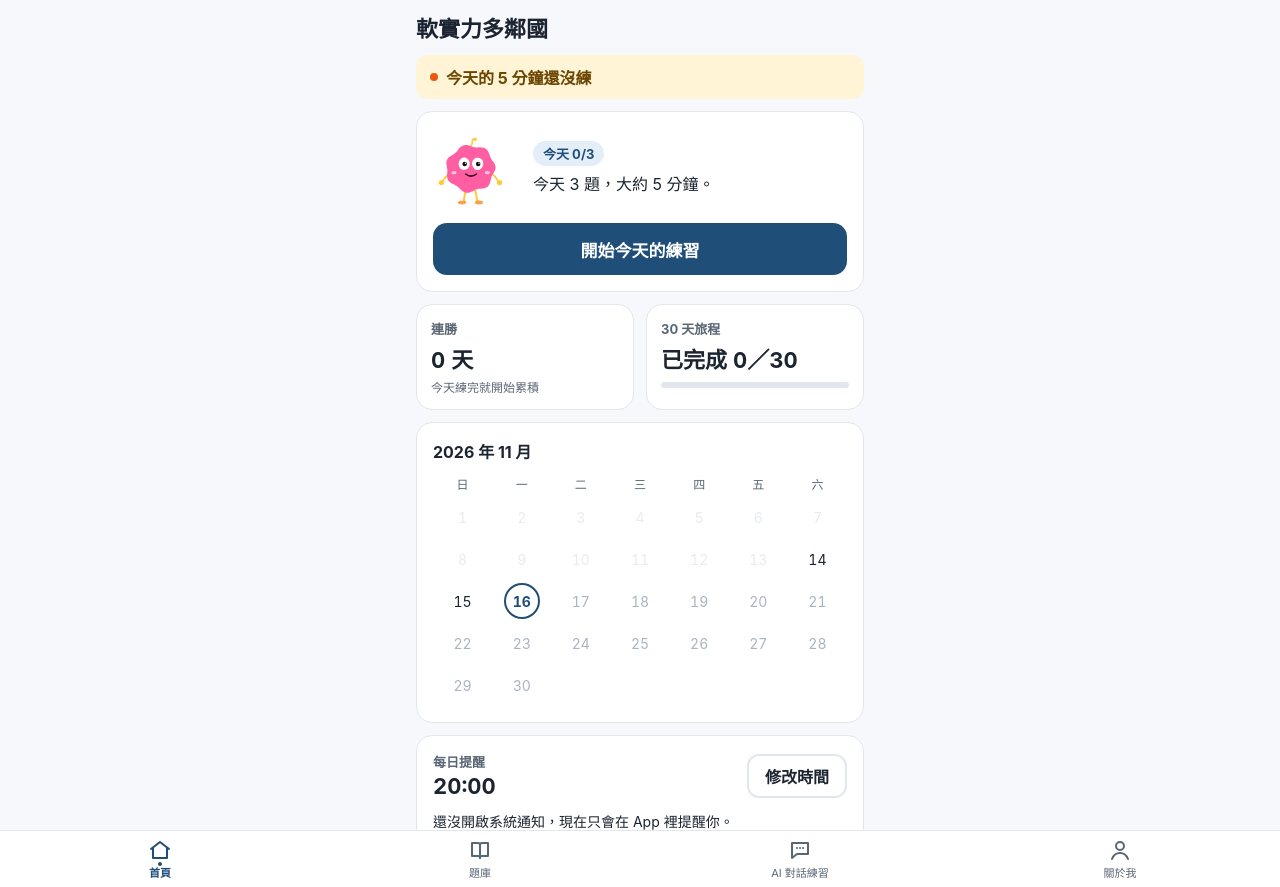
Test: 首頁畫面（假時間：台北 2026-11-16 21:00） › 修改提醒時間：可改、可取消，儲存後寫入 reminder_time
Expected: the text with test id "reminder-time" reads "20:00", top-left (433, 773), bottom-right (496, 799)
Click the button "修改時間".
click(797, 776)  # box top-left (747, 754), bottom-right (847, 798)
(page scrolled)
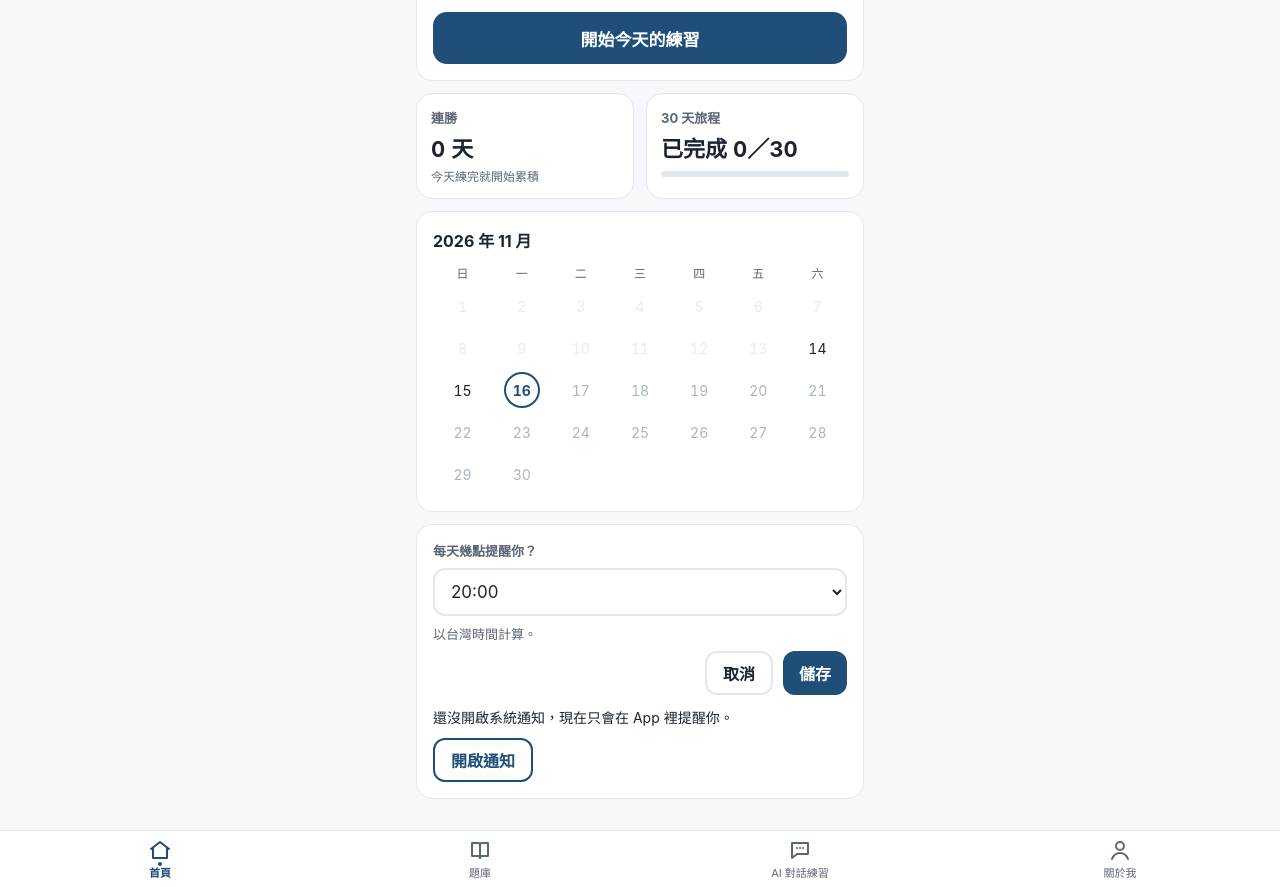
Select "08:15" in the dropdown labelled "每天幾點提醒你？" at [640, 592], box top-left (433, 568), bottom-right (847, 616)
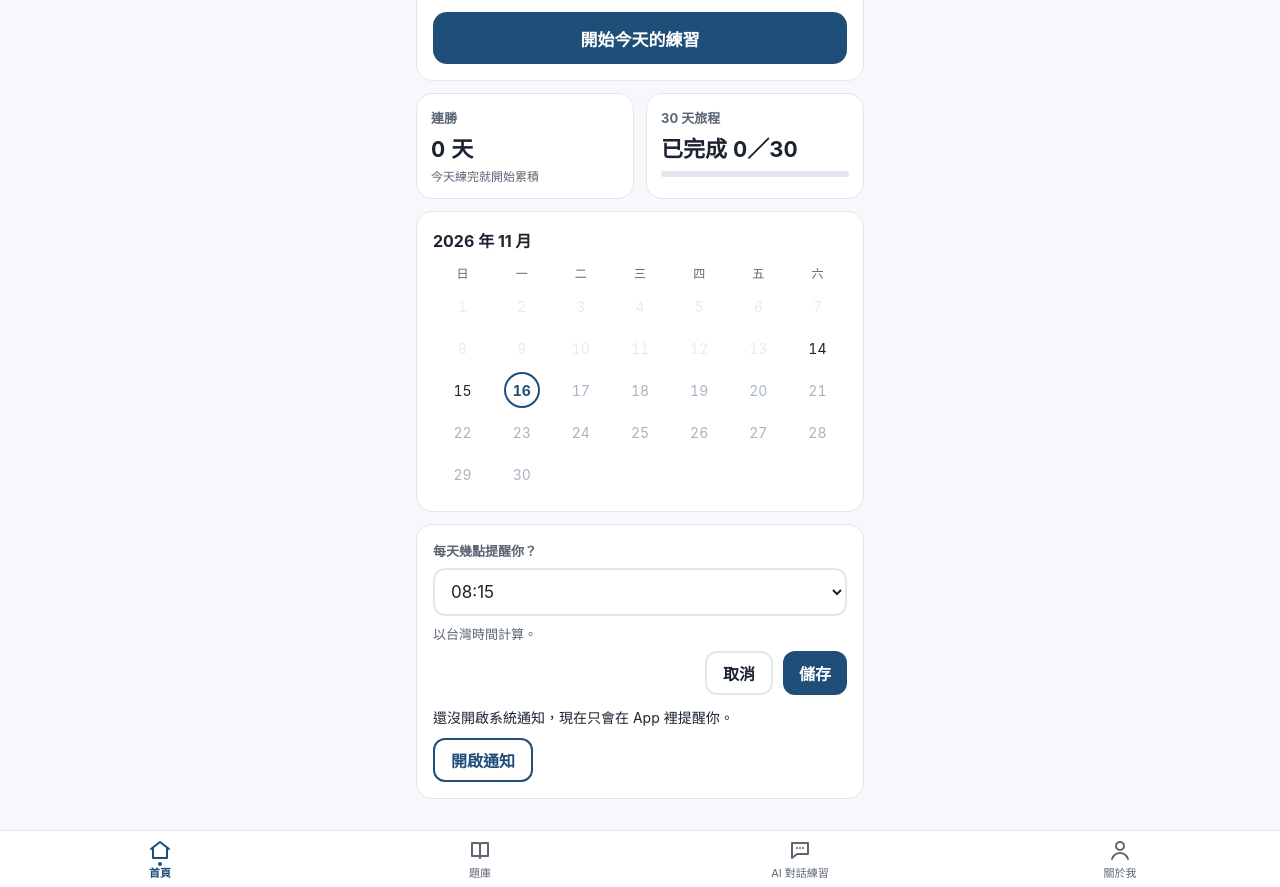
Click the button "取消".
click(739, 673)  # box top-left (705, 651), bottom-right (773, 695)
(page scrolled)
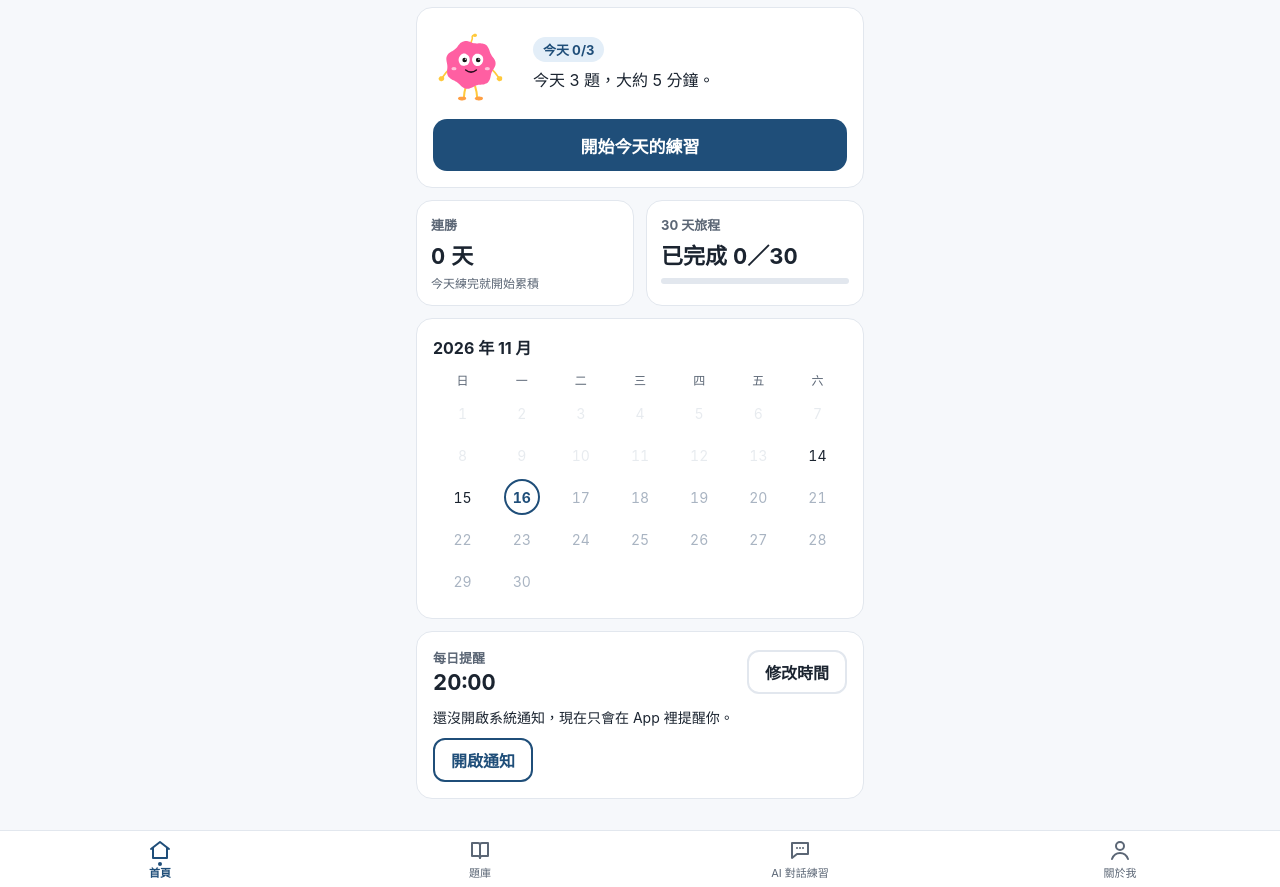
Expected: the text with test id "reminder-time" reads "20:00", top-left (433, 669), bottom-right (496, 695)
Click the button "修改時間".
click(797, 672)  # box top-left (747, 650), bottom-right (847, 694)
(page scrolled)
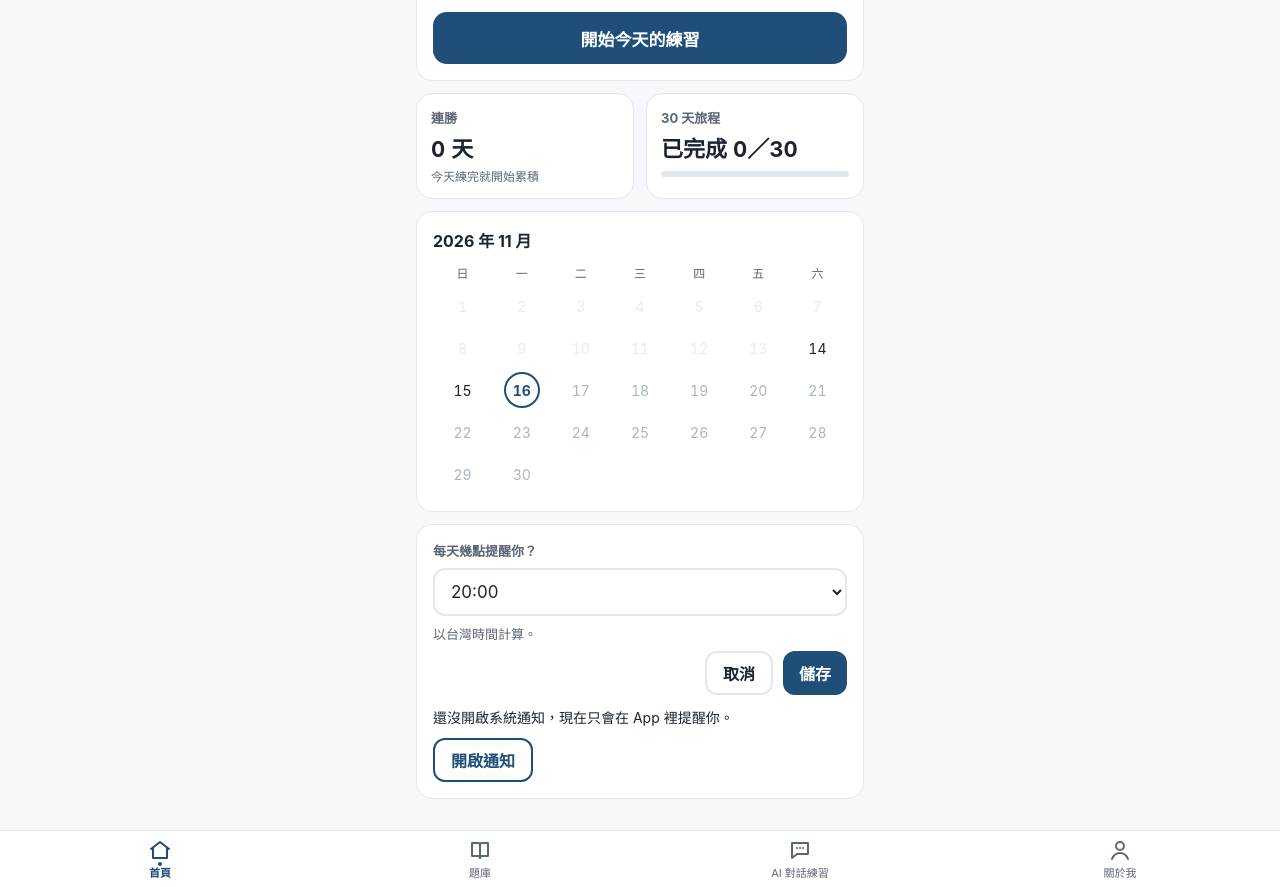
Select "08:15" in the dropdown labelled "每天幾點提醒你？" at [640, 592], box top-left (433, 568), bottom-right (847, 616)
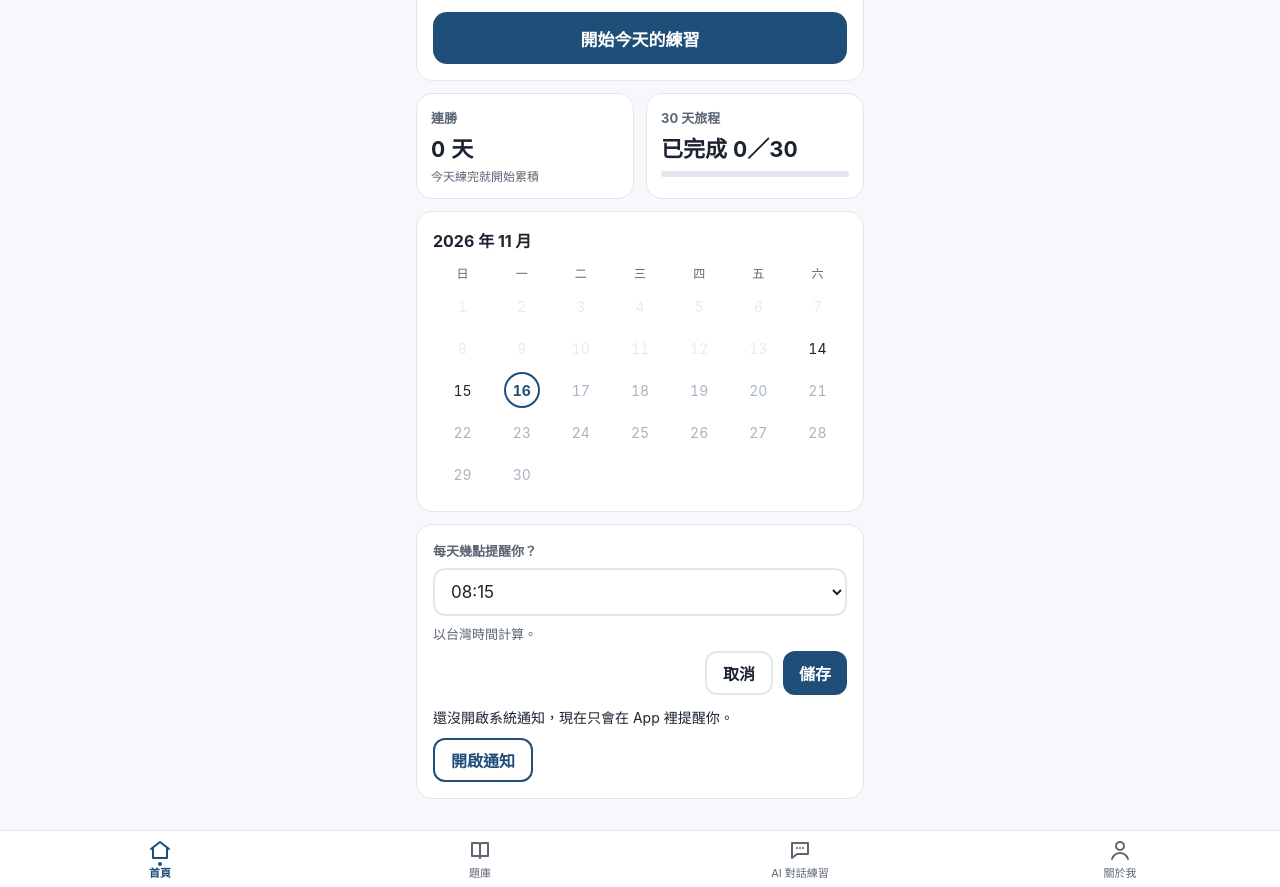
Click the button "儲存".
click(815, 673)  # box top-left (783, 651), bottom-right (847, 695)
(page scrolled)
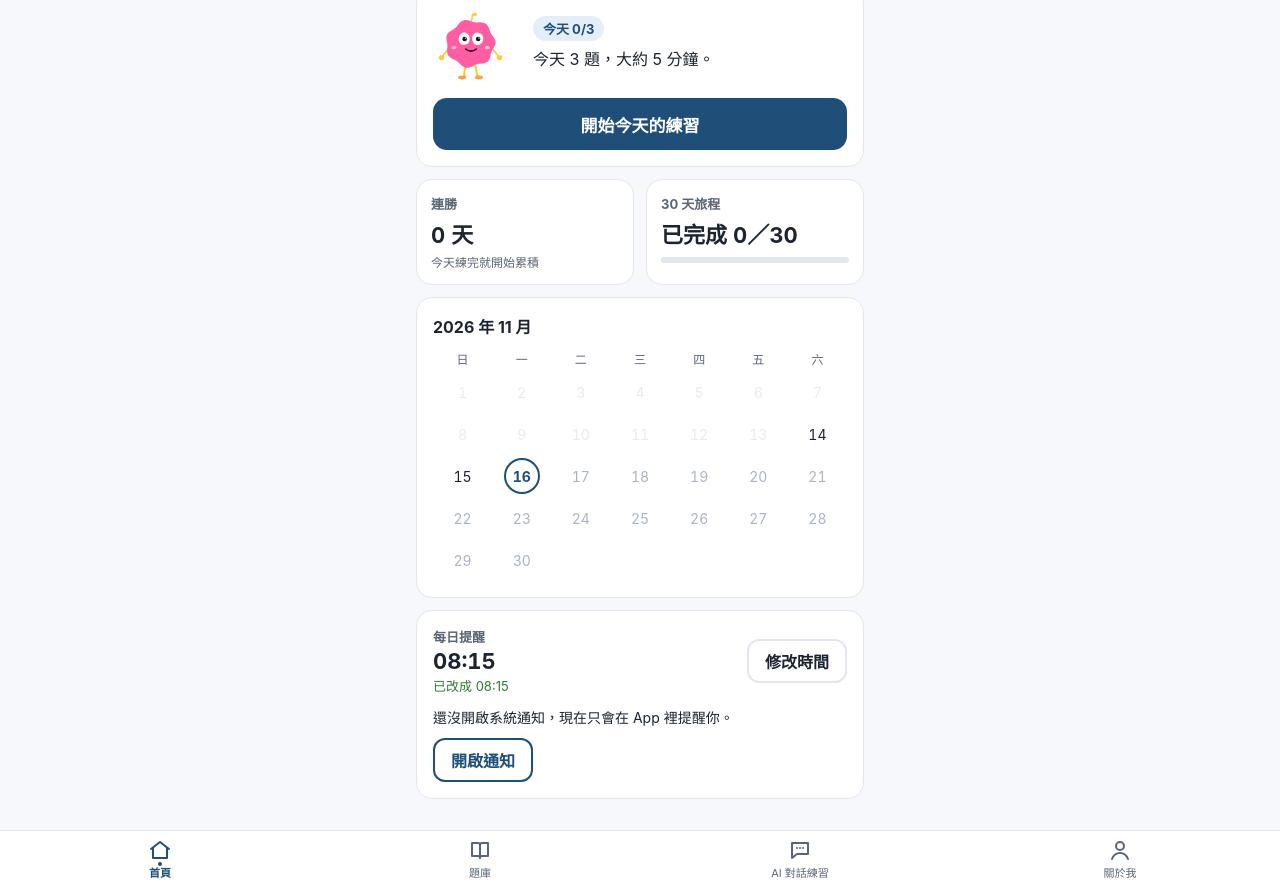
Expected: the text with test id "reminder-time" reads "08:15", top-left (433, 648), bottom-right (496, 674)
Expected: the message reads "已改成 08:15", top-left (433, 676), bottom-right (509, 695)
